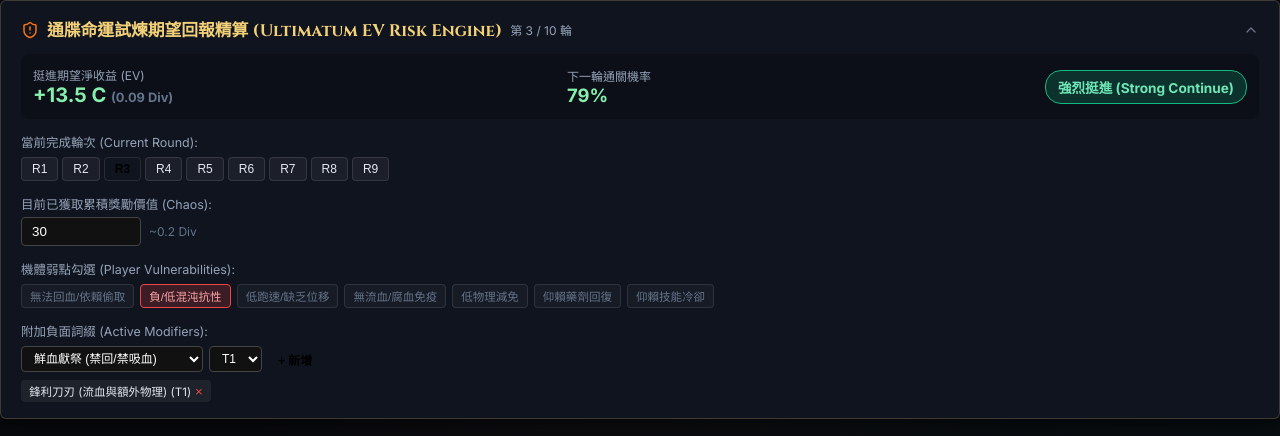
UltimatumEvCard › updates round when clicking round selector button
Click the button "R7" at (288, 169), box [269,157,307,181]
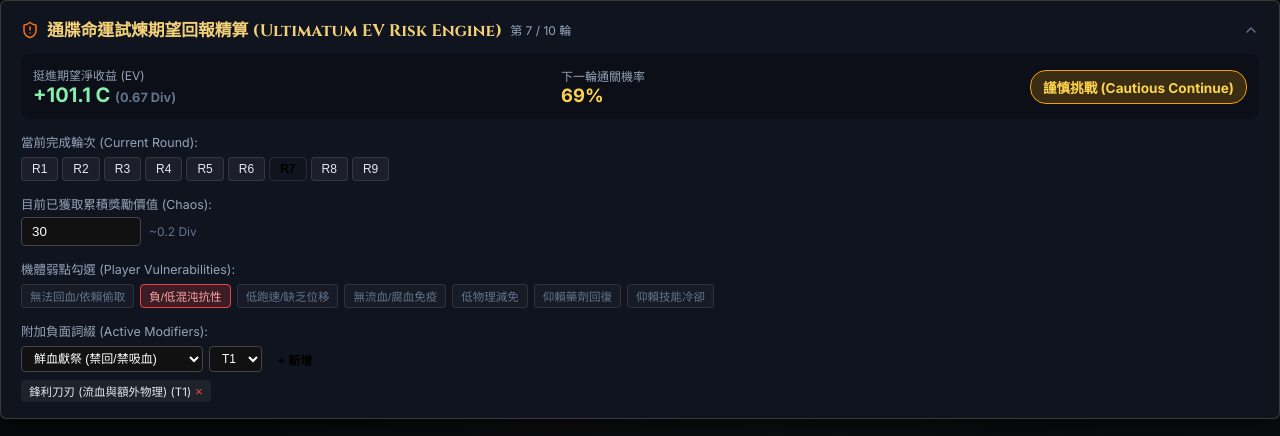
Check: the text "第 7 / 10 輪" is shown, box [510,21,571,38]
